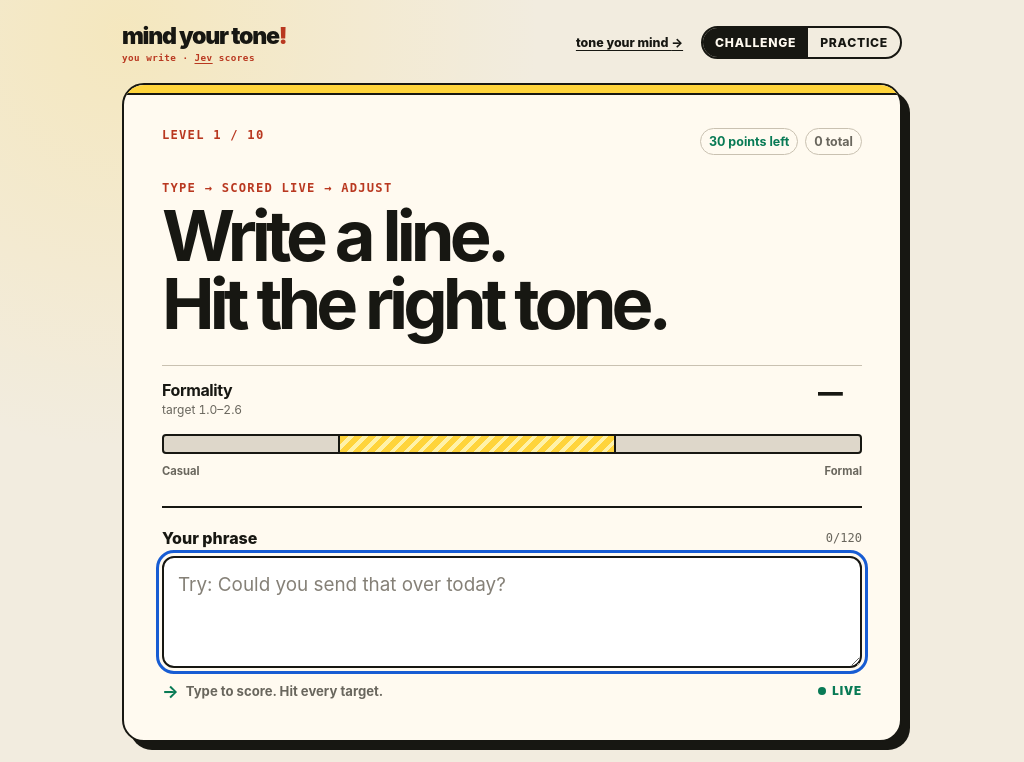
Scenario: live challenge play › opens a session inspector that shows the real API and Jev exchange
Step 1. Type "A traceable phrase" into the text box labelled "Your phrase" → (512, 612), box [162,556,862,668]
Wait 650 ms
(page scrolled)
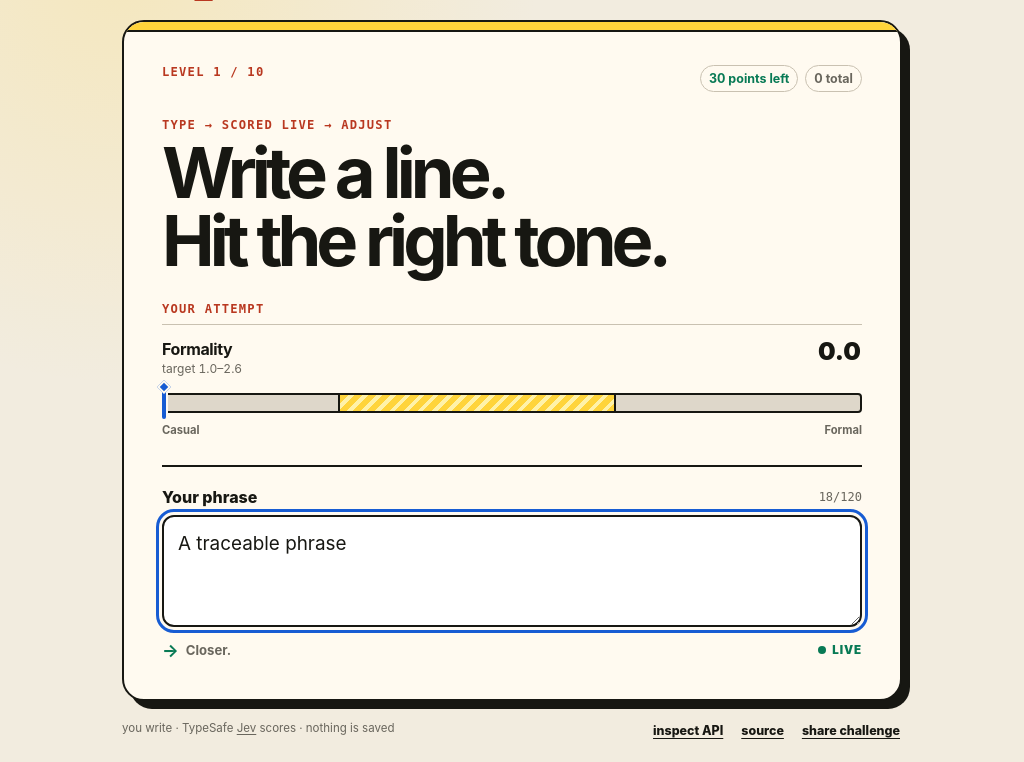
Step 2. Click the link "inspect API" → (688, 730), box [651,720,725,740]
(page scrolled)
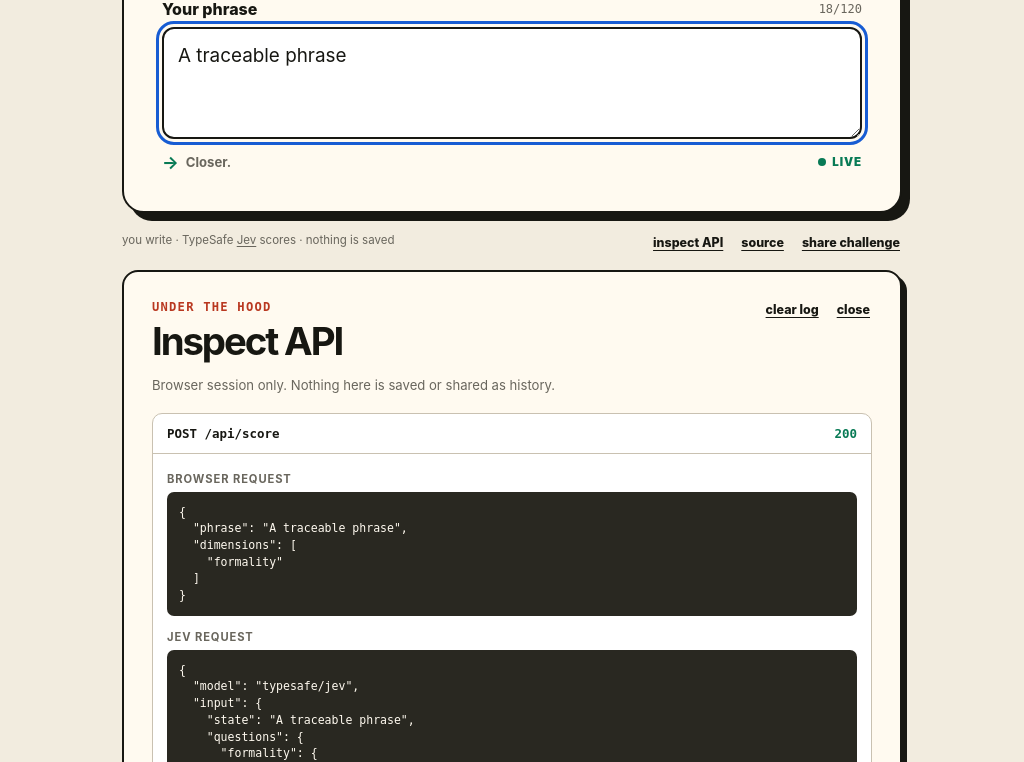
expect the text "POST /api/score" is shown: met, box [167,426,280,441]
expect the heading "Jev request" is shown: met, box [167,630,254,644]
expect the text "Browser session only" is shown: met, box [152,377,555,393]
